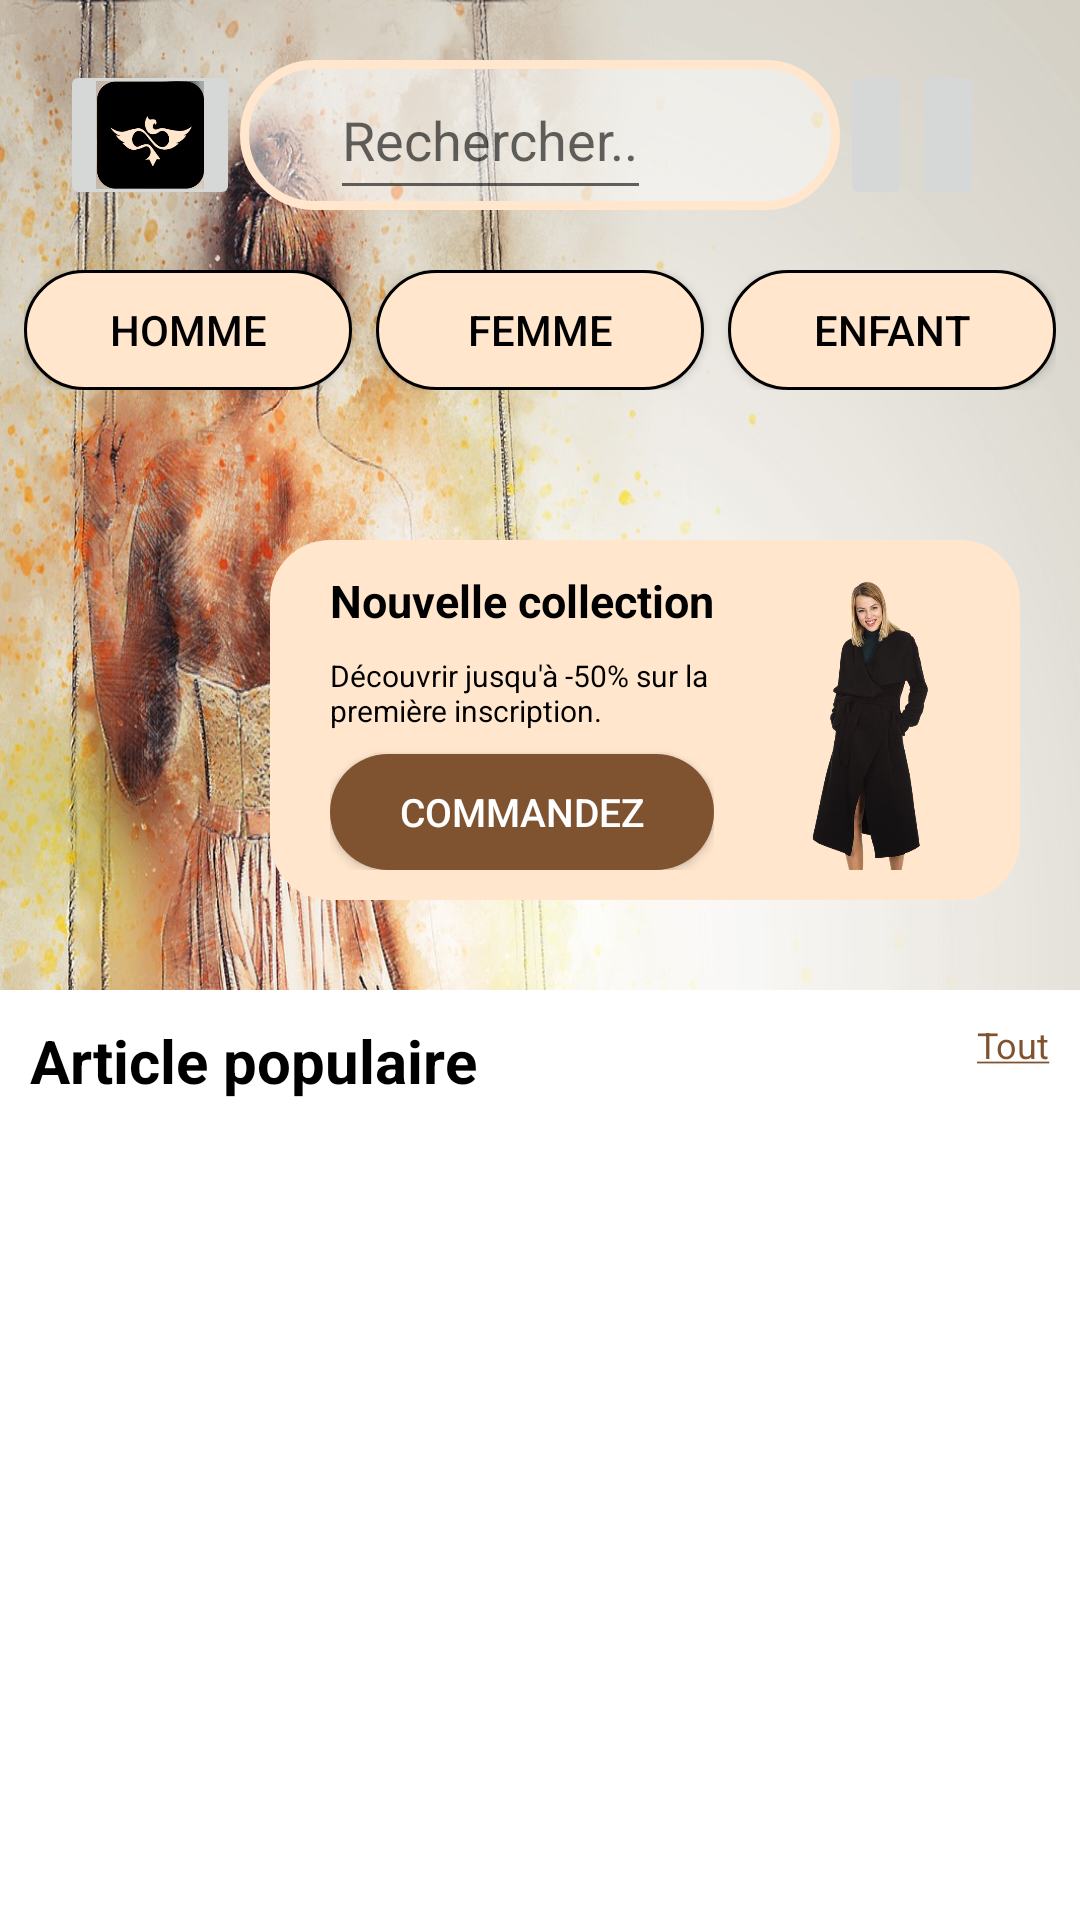

Icons on this 1080x1920 Android screen, each with the point to tap as [x,y]:
stylepic: [870,726]
